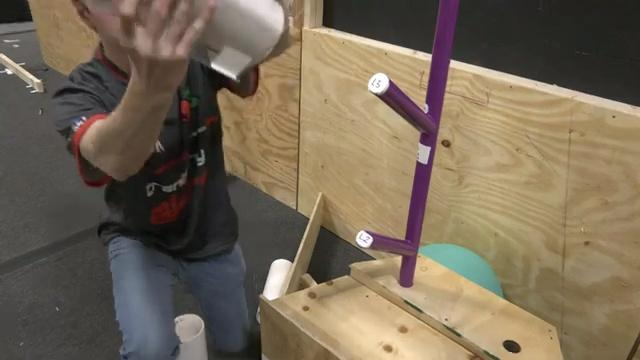CORAL: (171, 314, 208, 360)
